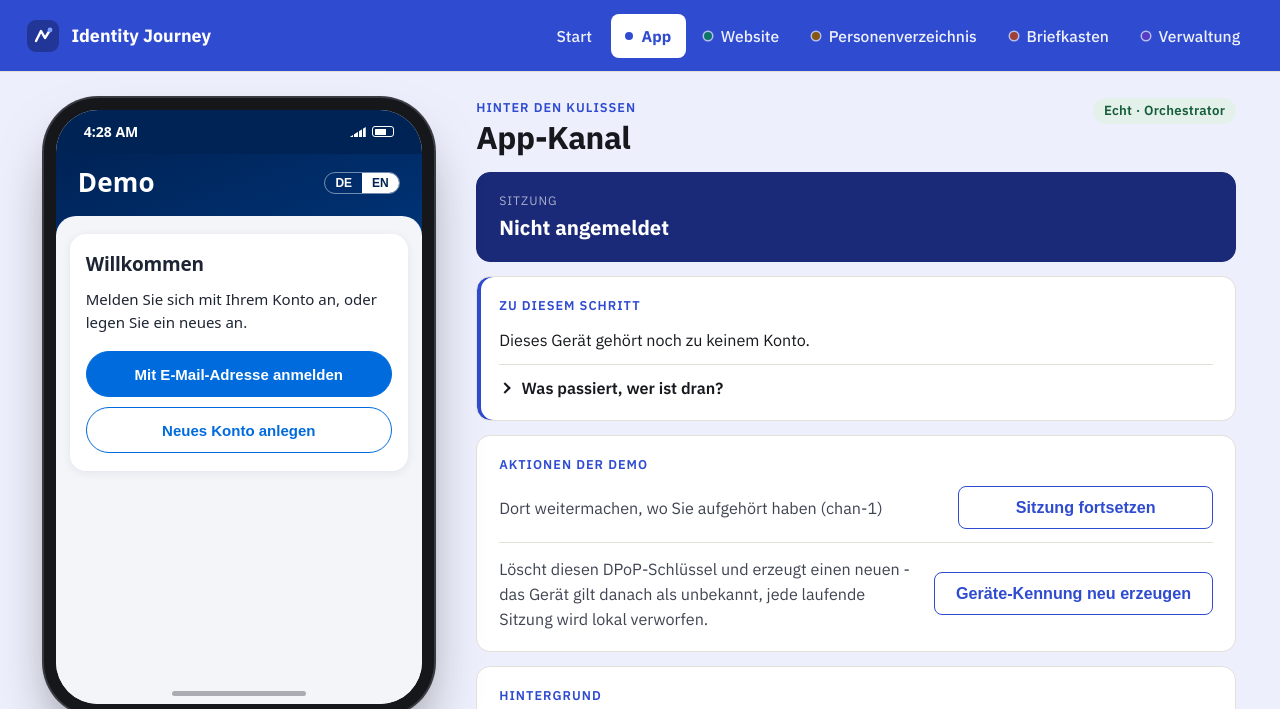
it: security-summary backfill (docs/05-api.md #1: on-demand, not part of tool responses) › skips the backfill fetch when the channel-level response already carries the fields
This screenshot has width=1280, height=709.
Step 1. Click the button "Sitzung fortsetzen" → (1086, 508), box [958,486,1213,529]
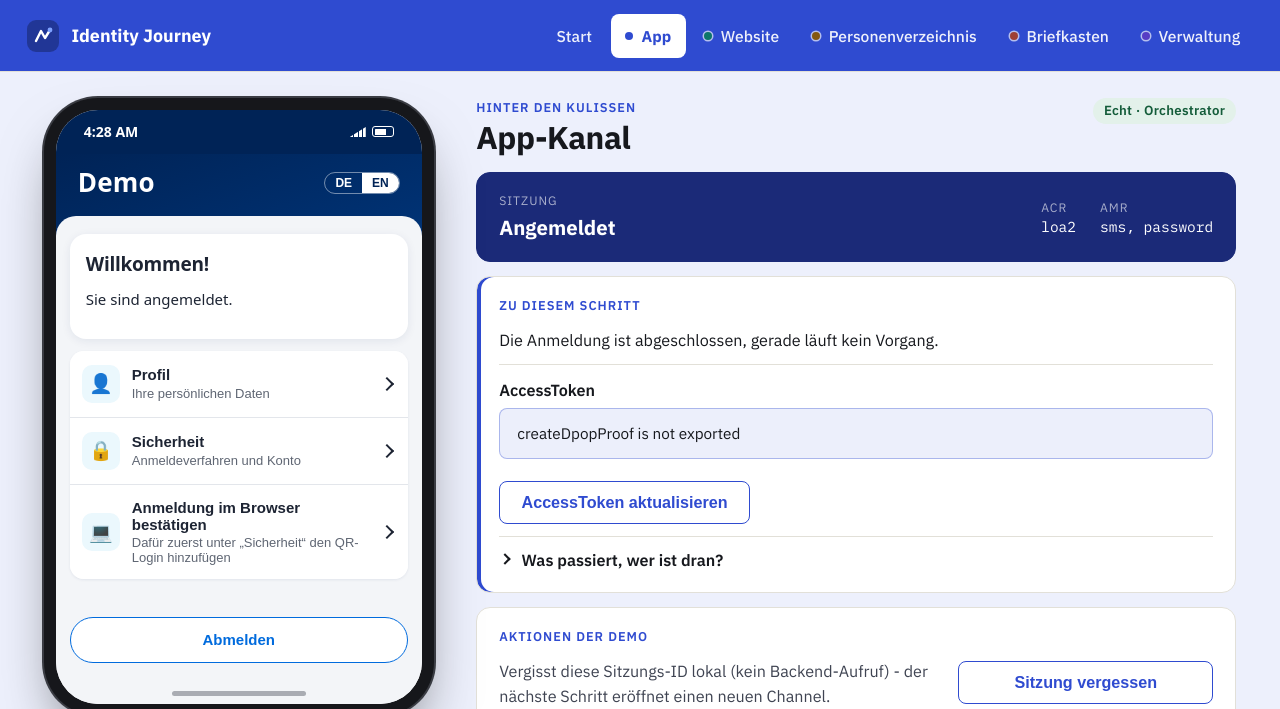
Step 2. Click the button "🔒 Sicherheit Anmeldeverfahren und Konto" → (239, 451), box [70,418,408,484]
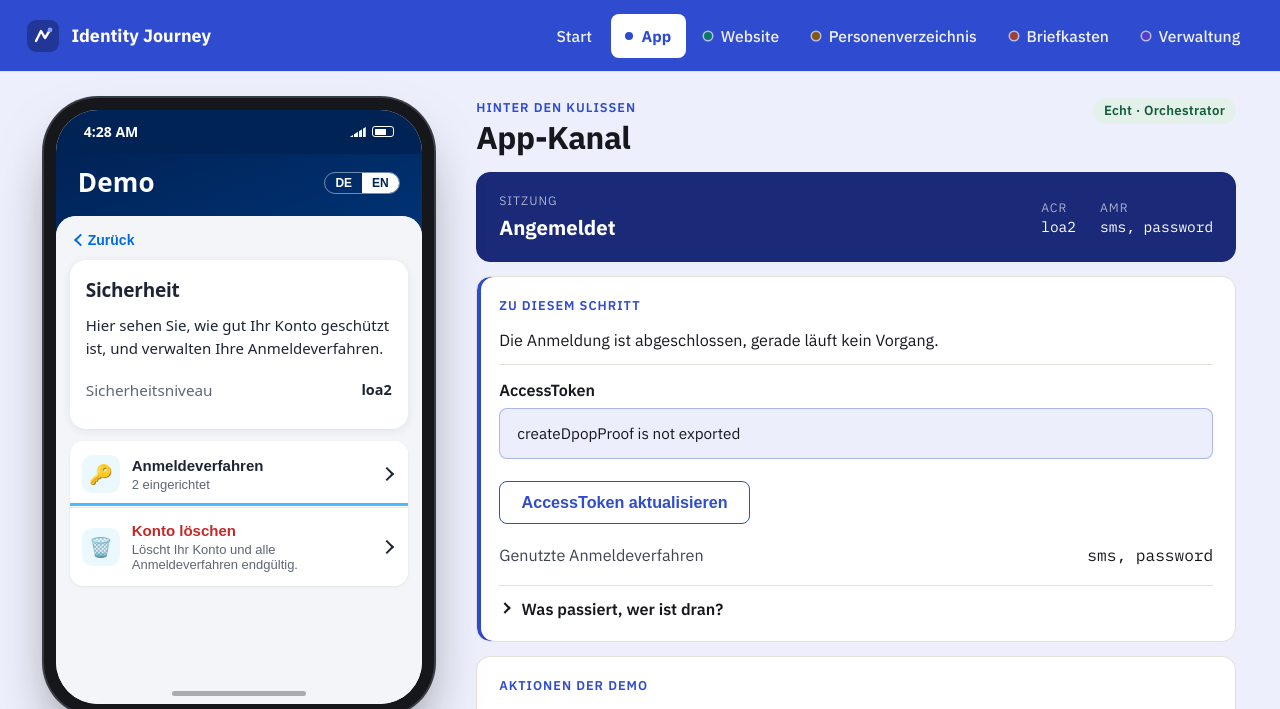
Check: the text "loa2" below "4:28 AM" is shown, box [361,380,392,399]
